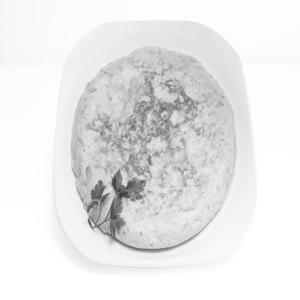omelet: (71, 30, 234, 276)
